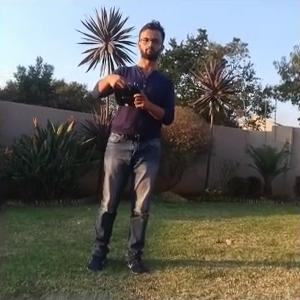follow: (81, 13, 180, 282)
